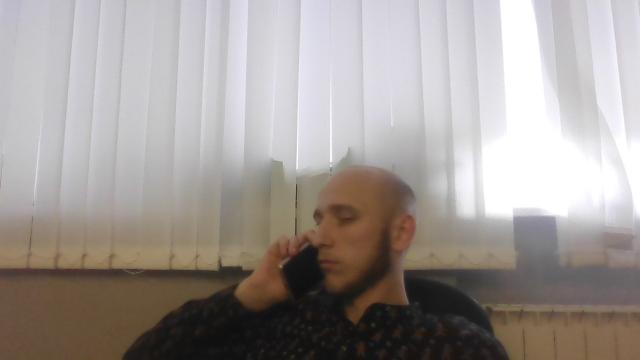PhoneUse: (276, 238, 324, 302)
